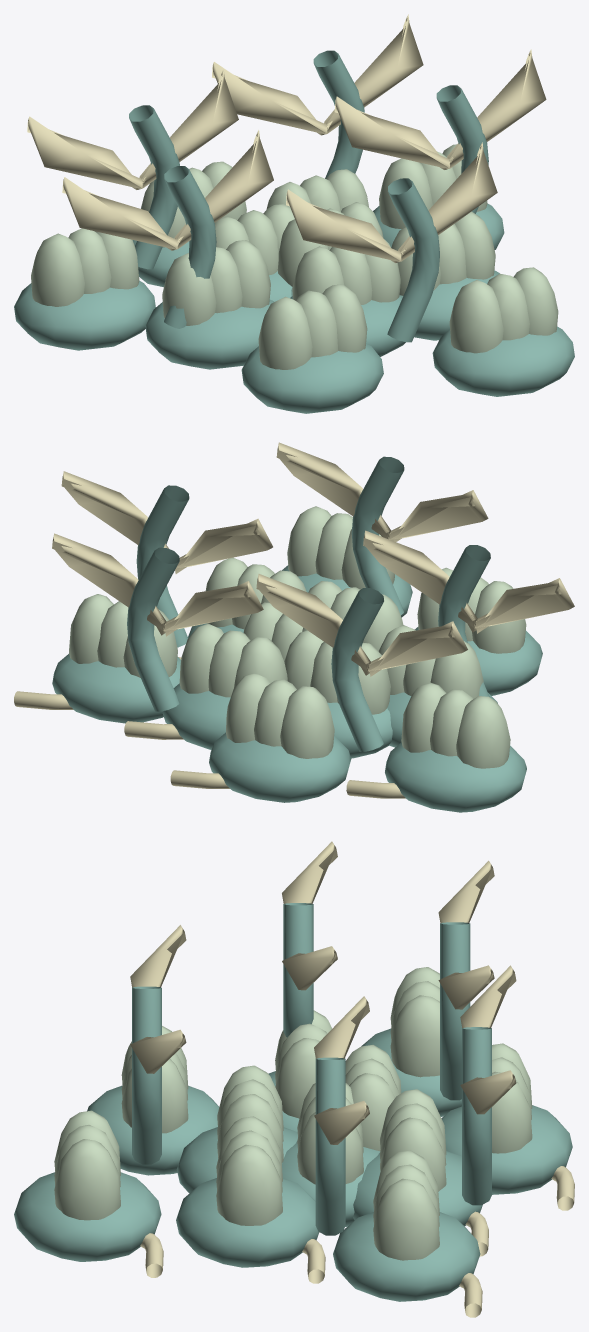
Rendered from bio_acid_mat_07_far.glb.
3 views of the same model, one above another, from view 1: azimuth 30°, elevation 25°; view 2: azimuth 150°, elevation 25°; view 3: azimuth 270°, elevation 25° (orthographic). The views are drawn at different scales.
Visible parts, largest first — view 1: Reaction vesicle.030, Reaction vesicle.021, Microbial cushion.007, Microbial cushion.010, Microbial cushion.009, Reaction vesicle.027, Secondary fan lobe.002, Secondary fan lobe.008, Secondary fan lobe, Secondary fan lobe.004, Secondary fan lobe.006, Reaction vesicle.012 (+17 smaller); view 2: Reaction vesicle.027, Reaction vesicle.018, Microbial cushion.009, Microbial cushion.006, Secondary fan lobe.008, Secondary fan lobe.002, Secondary fan lobe.006, Secondary fan lobe.004, Reaction vesicle.009, Secondary fan lobe, Microbial cushion.008, Reaction vesicle.024 (+21 smaller); view 3: Microbial cushion.010, Microbial cushion.008, Microbial cushion.005, Reaction vesicle.024, Reaction vesicle.015, Reaction vesicle.030, Microbial cushion.006, Reaction vesicle.027, Branching support, Branching support.002, Branching support.003, Microbial cushion.007 (+23 smaller).
Part boxes in pixels (x1,y1,x2,y2): Reaction vesicle.030: (449, 267, 558, 353); Reaction vesicle.021: (258, 284, 367, 369); Microbial cushion.007: (241, 343, 383, 413); Microbial cushion.010: (432, 326, 574, 396); Microbial cushion.009: (14, 280, 155, 350); Reaction vesicle.027: (31, 228, 139, 306); Secondary fan lobe.002: (27, 69, 238, 189); Secondary fan lobe.008: (62, 130, 273, 250); Secondary fan lobe: (334, 49, 546, 169); Secondary fan lobe.004: (286, 142, 497, 262); Secondary fan lobe.006: (212, 14, 423, 135); Reaction vesicle.012: (162, 240, 270, 325); Reaction vesicle.027: (401, 682, 510, 768); Reaction vesicle.018: (226, 673, 334, 758); Microbial cushion.009: (385, 742, 526, 812); Microbial cushion.006: (209, 732, 351, 802); Secondary fan lobe.008: (363, 530, 574, 633); Secondary fan lobe.002: (256, 574, 467, 676); Secondary fan lobe.006: (52, 533, 263, 636); Secondary fan lobe.004: (276, 442, 488, 541); Reaction vesicle.009: (179, 623, 287, 697); Secondary fan lobe: (61, 471, 272, 573); Microbial cushion.008: (52, 653, 180, 723); Reaction vesicle.024: (69, 594, 177, 677); Microbial cushion.010: (14, 1172, 161, 1261); Microbial cushion.008: (333, 1212, 480, 1301); Microbial cushion.005: (176, 1178, 319, 1267); Reaction vesicle.024: (373, 1150, 439, 1260); Reaction vesicle.015: (216, 1116, 282, 1225); Reaction vesicle.030: (54, 1110, 120, 1220); Microbial cushion.006: (441, 1105, 572, 1194); Reaction vesicle.027: (390, 967, 439, 1077); Branching support: (315, 1057, 345, 1235); Branching support.002: (132, 986, 161, 1164); Branching support.003: (462, 1027, 491, 1205); Microbial cushion.007: (87, 1085, 219, 1175).
Bounding box in the file's own units: 1.85 × 0.7549 × 1.67.
